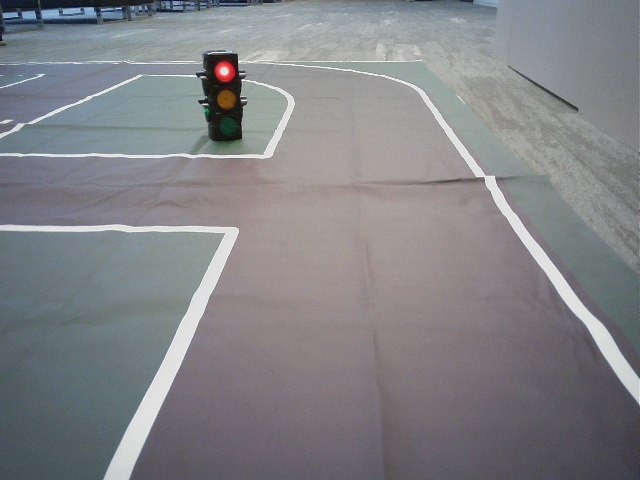red: (208, 55, 239, 138)
